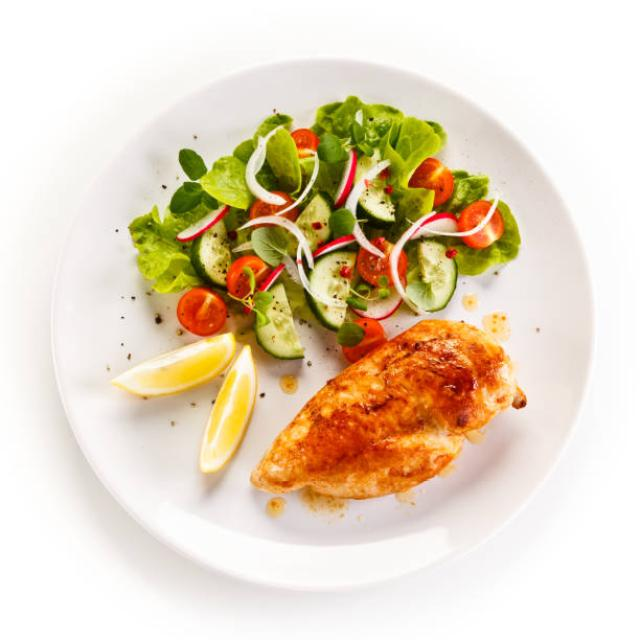Frango: (248, 318, 528, 502)
